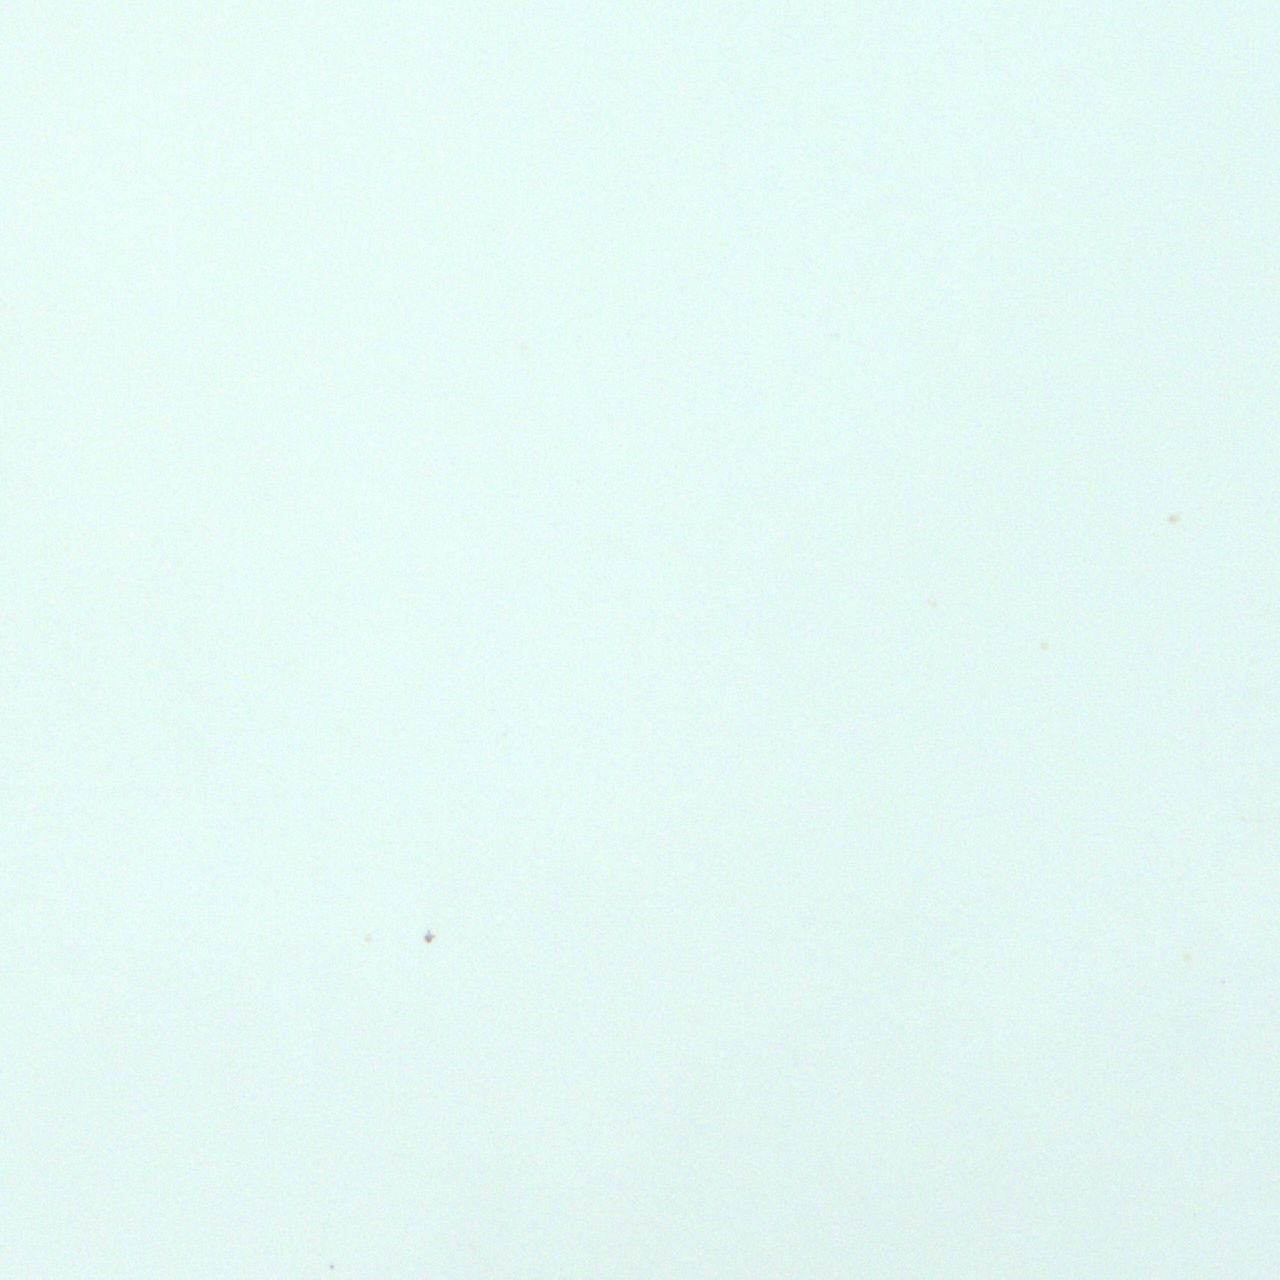dust: (424, 932, 434, 942)
